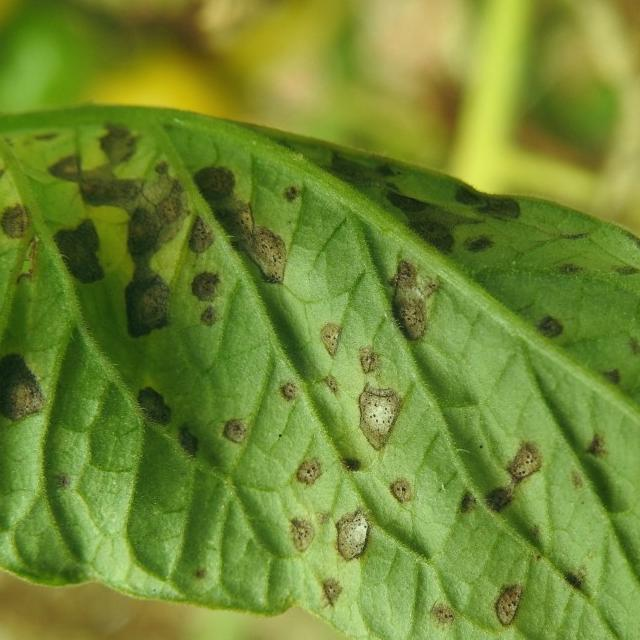Tomato Septoria leaf spot: (0, 66, 640, 640)
